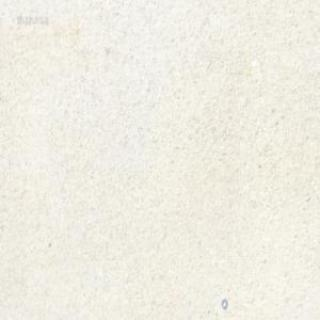Washertrack_idkeyframe: (220, 297, 227, 308)
